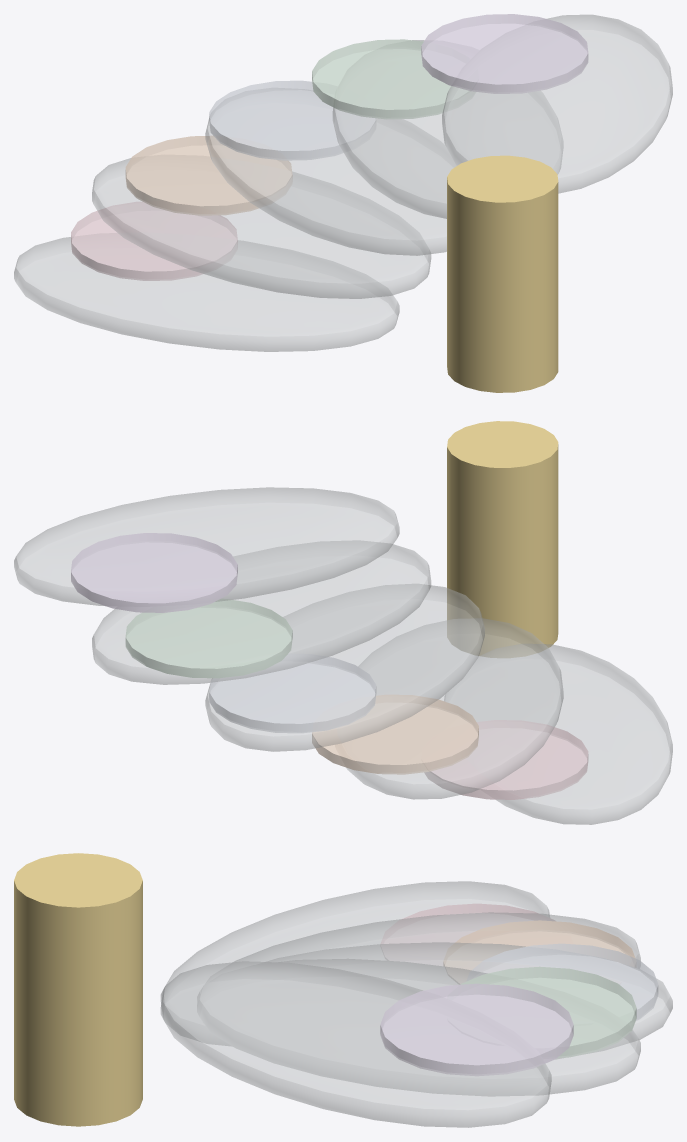
The model's file is glass-syrup-swatch-discs.glb.
The picture shows the model from 3 angles, top to bottom: view 1: azimuth 30°, elevation 25°; view 2: azimuth 150°, elevation 25°; view 3: azimuth 270°, elevation 25°; orthographic projection. The views are drawn at different scales.
Visible parts, largest first — view 1: swatch_GlassPaddle_0, swatch_GlassPaddle_1, swatch_GlassPaddle_4, swatch_GlassPaddle_2, swatch_BrassBindingPin, swatch_GlassPaddle_3, swatch_SyrupGelBlob_4, swatch_SyrupGelBlob_0, swatch_SyrupGelBlob_1, swatch_SyrupGelBlob_2, swatch_SyrupGelBlob_3; view 2: swatch_GlassPaddle_4, swatch_GlassPaddle_2, swatch_GlassPaddle_3, swatch_GlassPaddle_1, swatch_GlassPaddle_0, swatch_BrassBindingPin, swatch_SyrupGelBlob_4, swatch_SyrupGelBlob_3, swatch_SyrupGelBlob_2, swatch_SyrupGelBlob_1, swatch_SyrupGelBlob_0; view 3: swatch_GlassPaddle_4, swatch_BrassBindingPin, swatch_GlassPaddle_3, swatch_GlassPaddle_0, swatch_SyrupGelBlob_4, swatch_GlassPaddle_2, swatch_GlassPaddle_1, swatch_SyrupGelBlob_3, swatch_SyrupGelBlob_1, swatch_SyrupGelBlob_0, swatch_SyrupGelBlob_2.
Part boxes in pixels (<box>): swatch_GlassPaddle_0: <box>14,233,399,351</box>; swatch_GlassPaddle_1: <box>92,155,431,298</box>; swatch_GlassPaddle_4: <box>442,14,672,193</box>; swatch_GlassPaddle_2: <box>205,89,455,255</box>; swatch_BrassBindingPin: <box>447,155,558,392</box>; swatch_GlassPaddle_3: <box>332,40,563,218</box>; swatch_SyrupGelBlob_4: <box>421,14,588,93</box>; swatch_SyrupGelBlob_0: <box>71,201,237,280</box>; swatch_SyrupGelBlob_1: <box>125,135,292,215</box>; swatch_SyrupGelBlob_2: <box>209,80,376,160</box>; swatch_SyrupGelBlob_3: <box>312,39,475,119</box>; swatch_GlassPaddle_4: <box>14,487,399,605</box>; swatch_GlassPaddle_2: <box>205,584,484,751</box>; swatch_GlassPaddle_3: <box>92,540,431,684</box>; swatch_GlassPaddle_1: <box>343,618,563,799</box>; swatch_GlassPaddle_0: <box>444,644,672,824</box>; swatch_BrassBindingPin: <box>447,421,558,657</box>; swatch_SyrupGelBlob_4: <box>71,533,237,612</box>; swatch_SyrupGelBlob_3: <box>125,598,292,678</box>; swatch_SyrupGelBlob_2: <box>209,653,376,733</box>; swatch_SyrupGelBlob_1: <box>312,694,478,774</box>; swatch_SyrupGelBlob_0: <box>424,720,588,799</box>; swatch_GlassPaddle_4: <box>160,961,551,1127</box>; swatch_BrassBindingPin: <box>14,853,142,1126</box>; swatch_GlassPaddle_3: <box>197,958,640,1096</box>; swatch_GlassPaddle_0: <box>160,881,549,1045</box>; swatch_SyrupGelBlob_4: <box>380,983,573,1076</box>; swatch_GlassPaddle_2: <box>258,942,672,1058</box>; swatch_GlassPaddle_1: <box>197,912,640,1002</box>; swatch_SyrupGelBlob_3: <box>448,966,636,1058</box>; swatch_SyrupGelBlob_1: <box>443,920,635,983</box>; swatch_SyrupGelBlob_0: <box>380,903,554,965</box>; swatch_SyrupGelBlob_2: <box>466,943,658,1020</box>.
Size of the model in its own units: 0.1022 by 0.03 by 0.0818.
